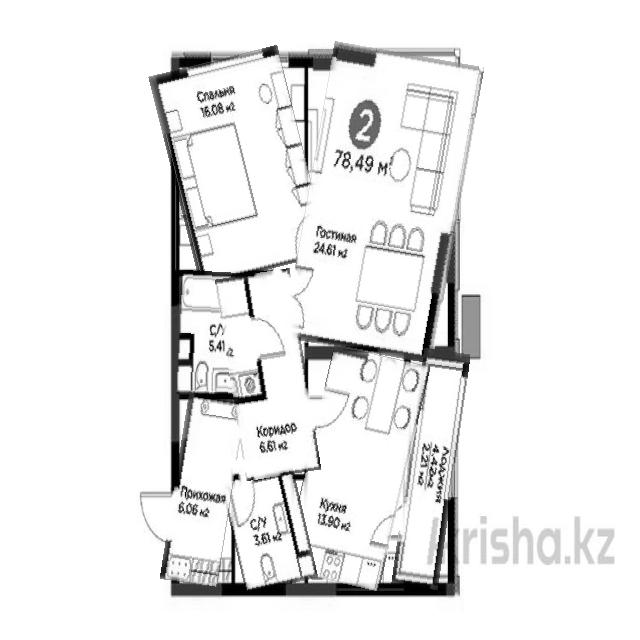balcony: (399, 350, 462, 590)
bathroom: (174, 272, 265, 398), (227, 471, 313, 590)
hallway: (234, 269, 321, 481), (167, 394, 239, 586)
kitchen: (295, 348, 418, 587)
living_room: (295, 47, 472, 358), (160, 51, 317, 280)
